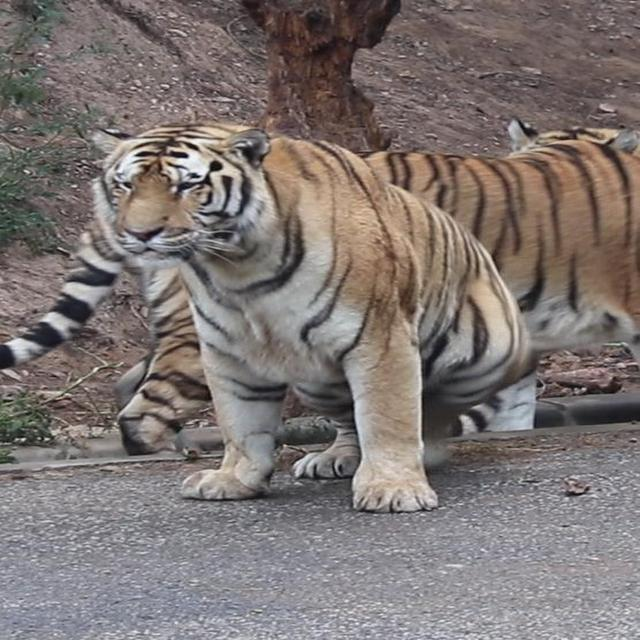tiger: (96, 121, 539, 513), (357, 117, 639, 436)
